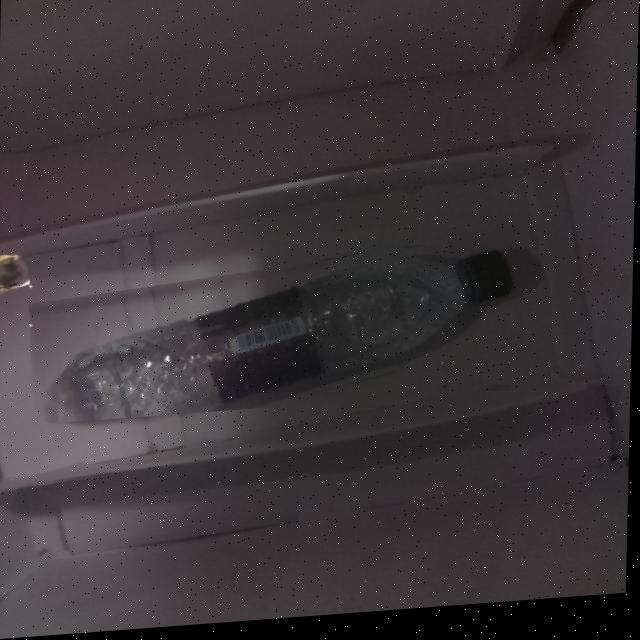plasticbottle: (28, 235, 554, 426)
plasticbottlecap: (447, 244, 527, 324)
